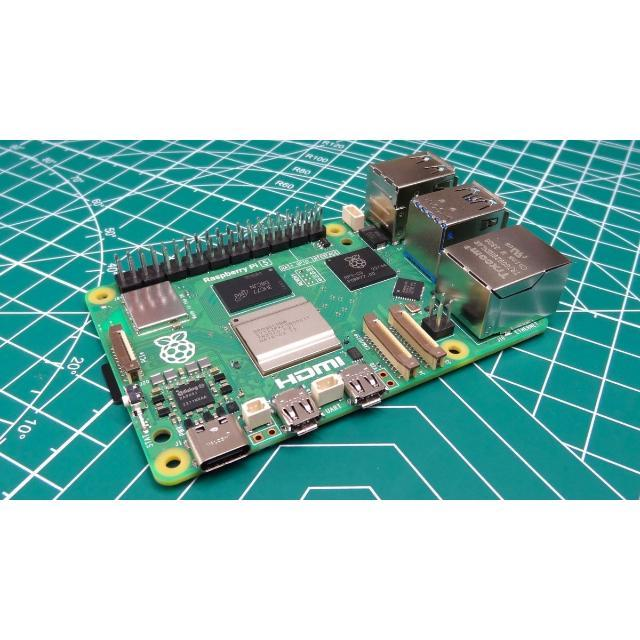Raspberry-Pi-5: (88, 153, 569, 486)
